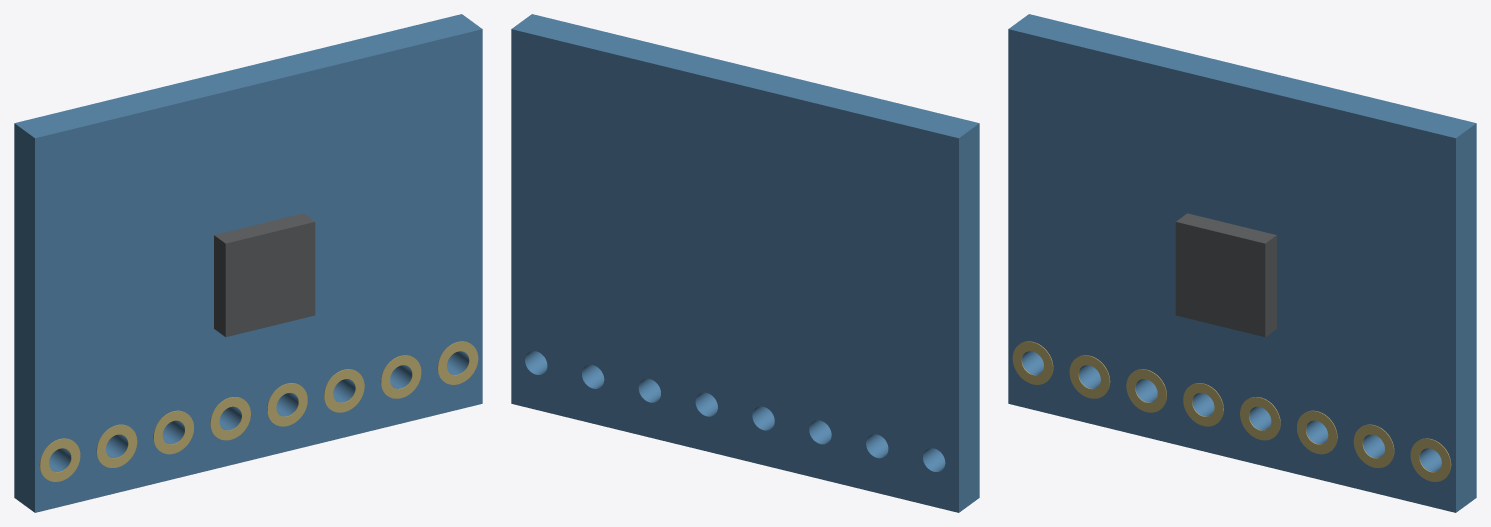
The model's file is mpu6050.glb.
The picture shows the model from 3 angles, left to right: view 1: azimuth 30°, elevation 25°; view 2: azimuth 150°, elevation 25°; view 3: azimuth 330°, elevation 25°; orthographic projection.
Visible parts, largest first — view 1: pcb, mpu6050, solder_pads; view 2: pcb; view 3: pcb, mpu6050, solder_pads.
Boxes of the visible parts, left/top/right/bottom form: pcb: left=14, top=14, right=482, bottom=512; mpu6050: left=214, top=213, right=315, bottom=337; solder_pads: left=39, top=341, right=478, bottom=481; pcb: left=511, top=14, right=979, bottom=512; pcb: left=1008, top=14, right=1476, bottom=512; mpu6050: left=1175, top=213, right=1276, bottom=337; solder_pads: left=1012, top=341, right=1451, bottom=481.
Bounding box in the file's own units: 0.02 × 0.016 × 0.0025.
